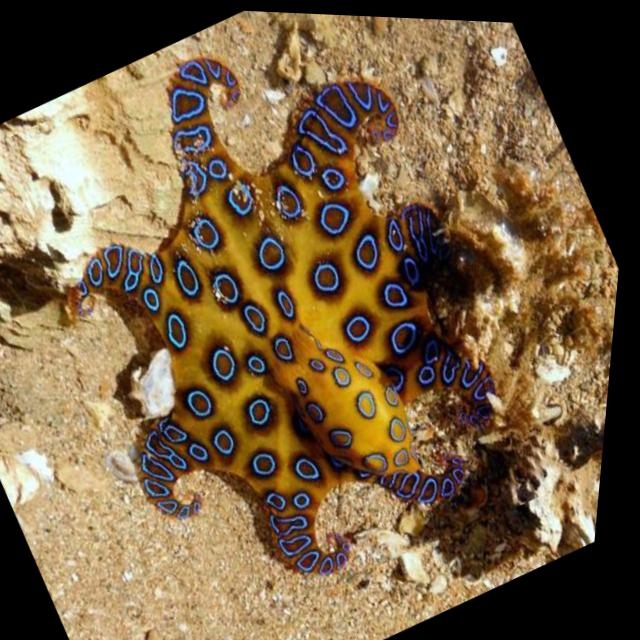blue_ringed_octopus: (0, 0, 602, 640)
